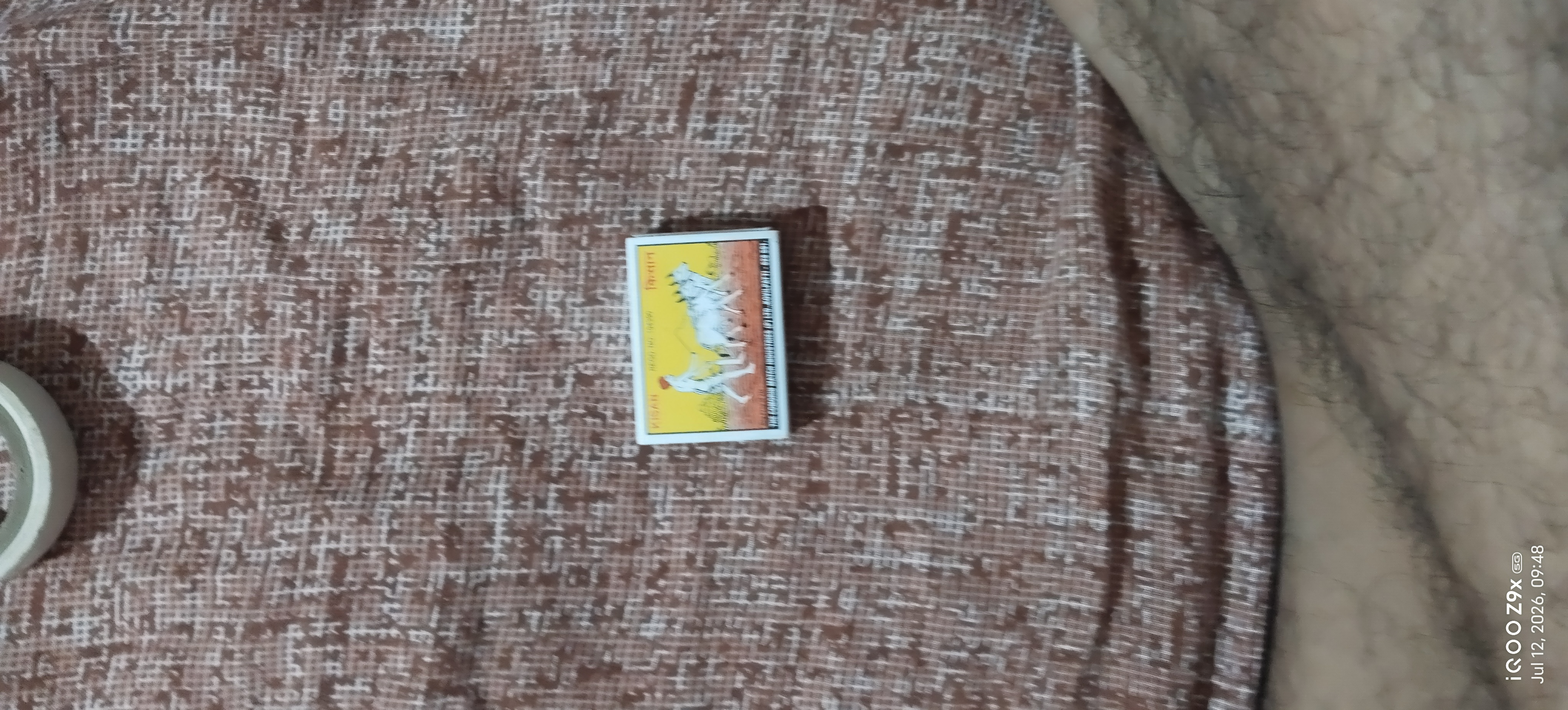matchbox: (595, 213, 805, 459)
tape_roll: (0, 346, 99, 621)
